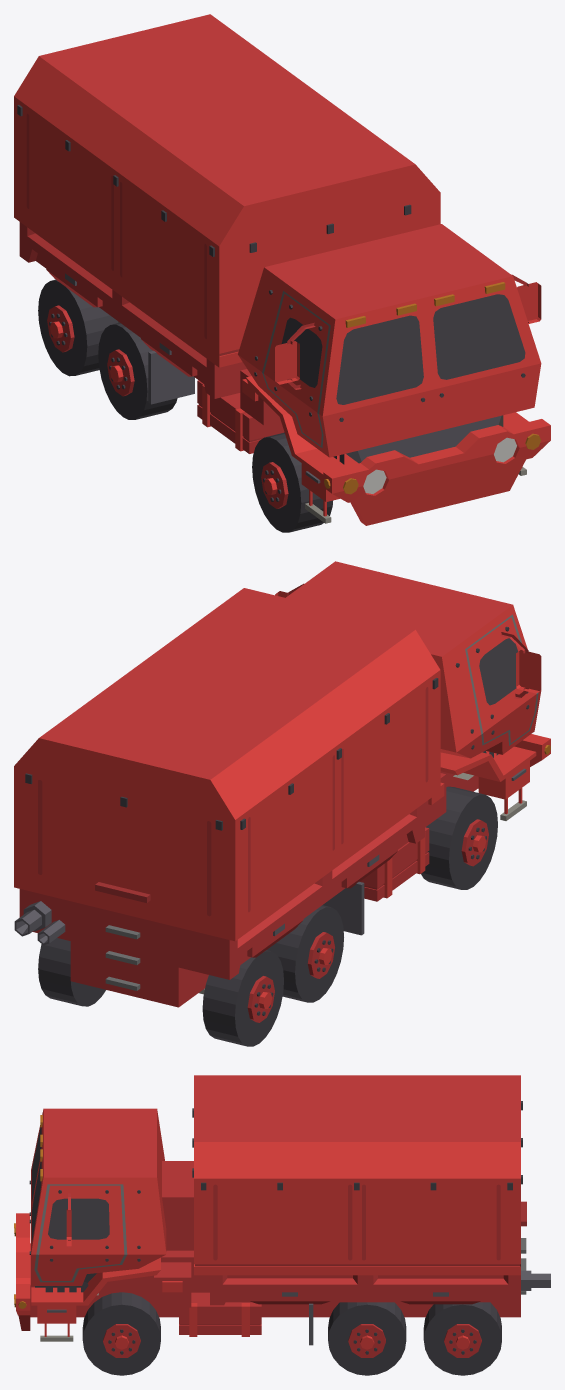
Rendered from truck.glb.
3 views of the same model, one above another, from view 1: azimuth 30°, elevation 25°; view 2: azimuth 150°, elevation 25°; view 3: azimuth 270°, elevation 25° (orthographic). The views are drawn at different scales.
Parts seen in each view (by area): view 1: Cube_Cube.001, Cube.001_Cube.006, Cube.003_Cube.008, Cube.023_Cube.027, Cube.006_Cube.012, Cube.029_Cube.033, Cube.007_Cube.013, Cube.015_Cube.010, Cube.002_Cube.007, Cube.011_Cube.018, Cube.026_Cube.030, Cube.013_Cube (+7 smaller); view 2: Cube_Cube.001, Cube.001_Cube.006, Cube.006_Cube.012, Cube.007_Cube.013, Cube.004_Cube.009, Cube.029_Cube.033, Cube.009_Cube.015, Cube.015_Cube.010, Cube.002_Cube.007, Cube.024_Cube.028, Cube.013_Cube, Cube.028_Cube.032 (+7 smaller); view 3: Cube_Cube.001, Cube.001_Cube.006, Cube.006_Cube.012, Cube.029_Cube.033, Cube.007_Cube.013, Cube.009_Cube.015, Cube.015_Cube.010, Cube.012_Cube.019, Cube.004_Cube.009, Cube.024_Cube.028, Cube.002_Cube.007, Cube.013_Cube (+6 smaller).
Boxes of the visible parts, x1,y1,x2,y2 form: Cube_Cube.001: (14, 14, 440, 367); Cube.001_Cube.006: (238, 224, 541, 457); Cube.003_Cube.008: (323, 419, 550, 525); Cube.023_Cube.027: (336, 294, 525, 404); Cube.006_Cube.012: (98, 322, 333, 532); Cube.029_Cube.033: (19, 222, 221, 398); Cube.007_Cube.013: (38, 279, 117, 376); Cube.015_Cube.010: (197, 380, 284, 453); Cube.002_Cube.007: (246, 376, 528, 478); Cube.011_Cube.018: (346, 415, 501, 463); Cube.026_Cube.030: (275, 274, 541, 389); Cube.013_Cube: (17, 105, 411, 338); Cube_Cube.001: (14, 588, 440, 941); Cube.001_Cube.006: (286, 561, 541, 758); Cube.006_Cube.012: (267, 786, 497, 1002); Cube.007_Cube.013: (38, 938, 283, 1046); Cube.004_Cube.009: (27, 834, 408, 977); Cube.029_Cube.033: (19, 803, 424, 979); Cube.009_Cube.015: (70, 775, 478, 1007); Cube.015_Cube.010: (360, 827, 429, 901); Cube.002_Cube.007: (440, 746, 536, 781); Cube.024_Cube.028: (479, 638, 518, 705); Cube.013_Cube: (240, 678, 438, 912); Cube.028_Cube.032: (478, 761, 529, 820); Cube_Cube.001: (194, 1075, 520, 1275); Cube.001_Cube.006: (31, 1108, 166, 1285); Cube.006_Cube.012: (82, 1292, 406, 1375); Cube.029_Cube.033: (210, 1275, 520, 1305); Cube.007_Cube.013: (423, 1302, 501, 1375); Cube.009_Cube.015: (30, 1243, 520, 1317); Cube.015_Cube.010: (179, 1292, 261, 1336); Cube.012_Cube.019: (162, 1161, 193, 1250); Cube.004_Cube.009: (226, 1275, 504, 1302); Cube.024_Cube.028: (48, 1198, 109, 1239); Cube.002_Cube.007: (31, 1257, 160, 1305); Cube.013_Cube: (192, 1108, 512, 1260).
Size of the model in its own units: 2.64 by 2.75 by 5.85.
